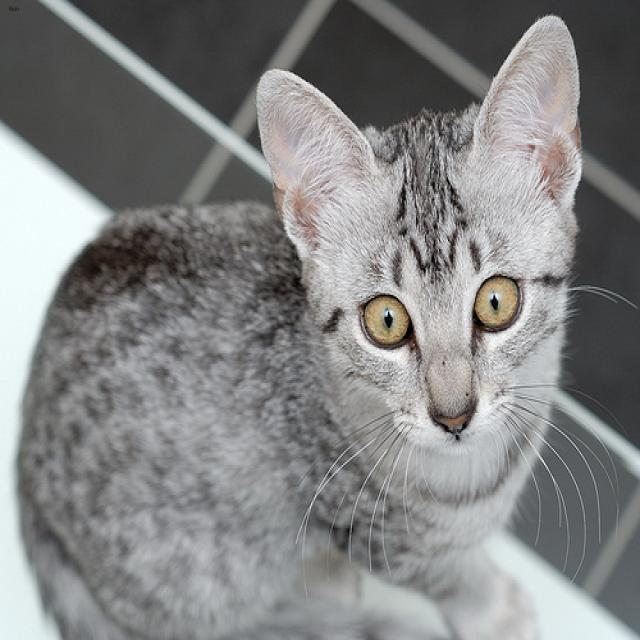Egyptian_Mau: (254, 12, 576, 495)
